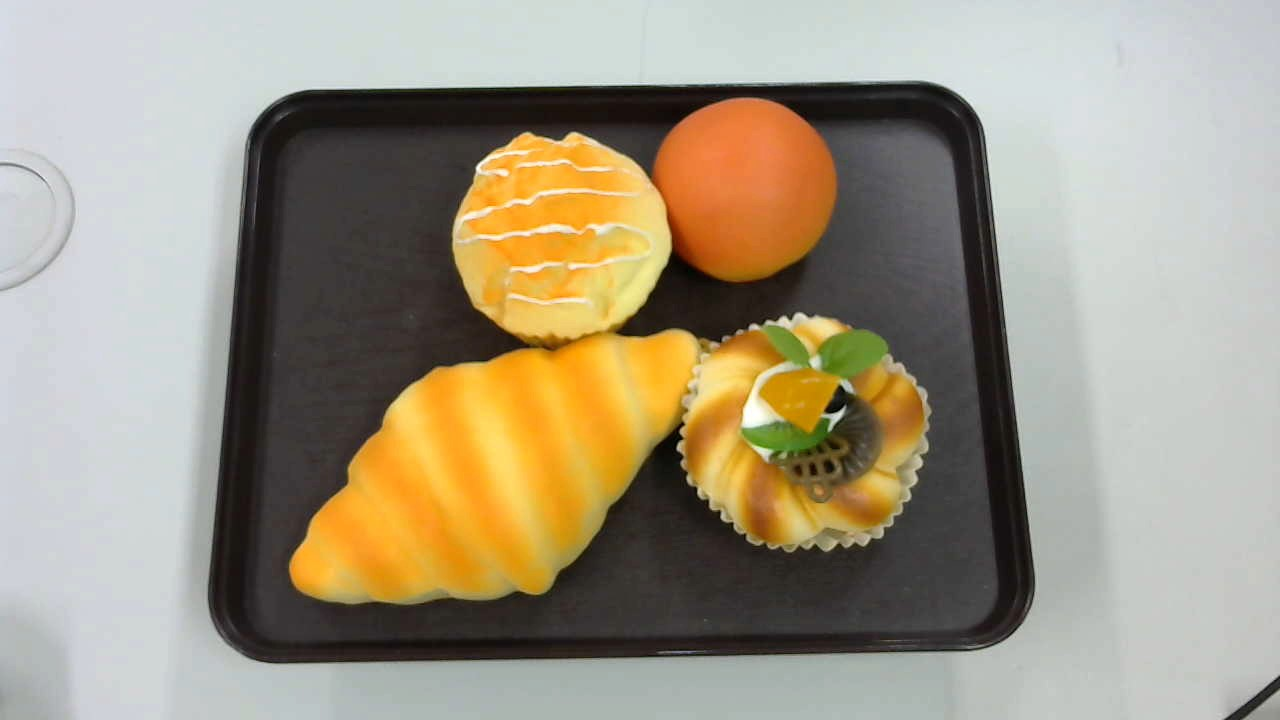bun: (650, 97, 838, 283)
croissant: (288, 325, 699, 606)
cupcake: (451, 130, 673, 349)
fruit tart: (679, 312, 932, 553)
